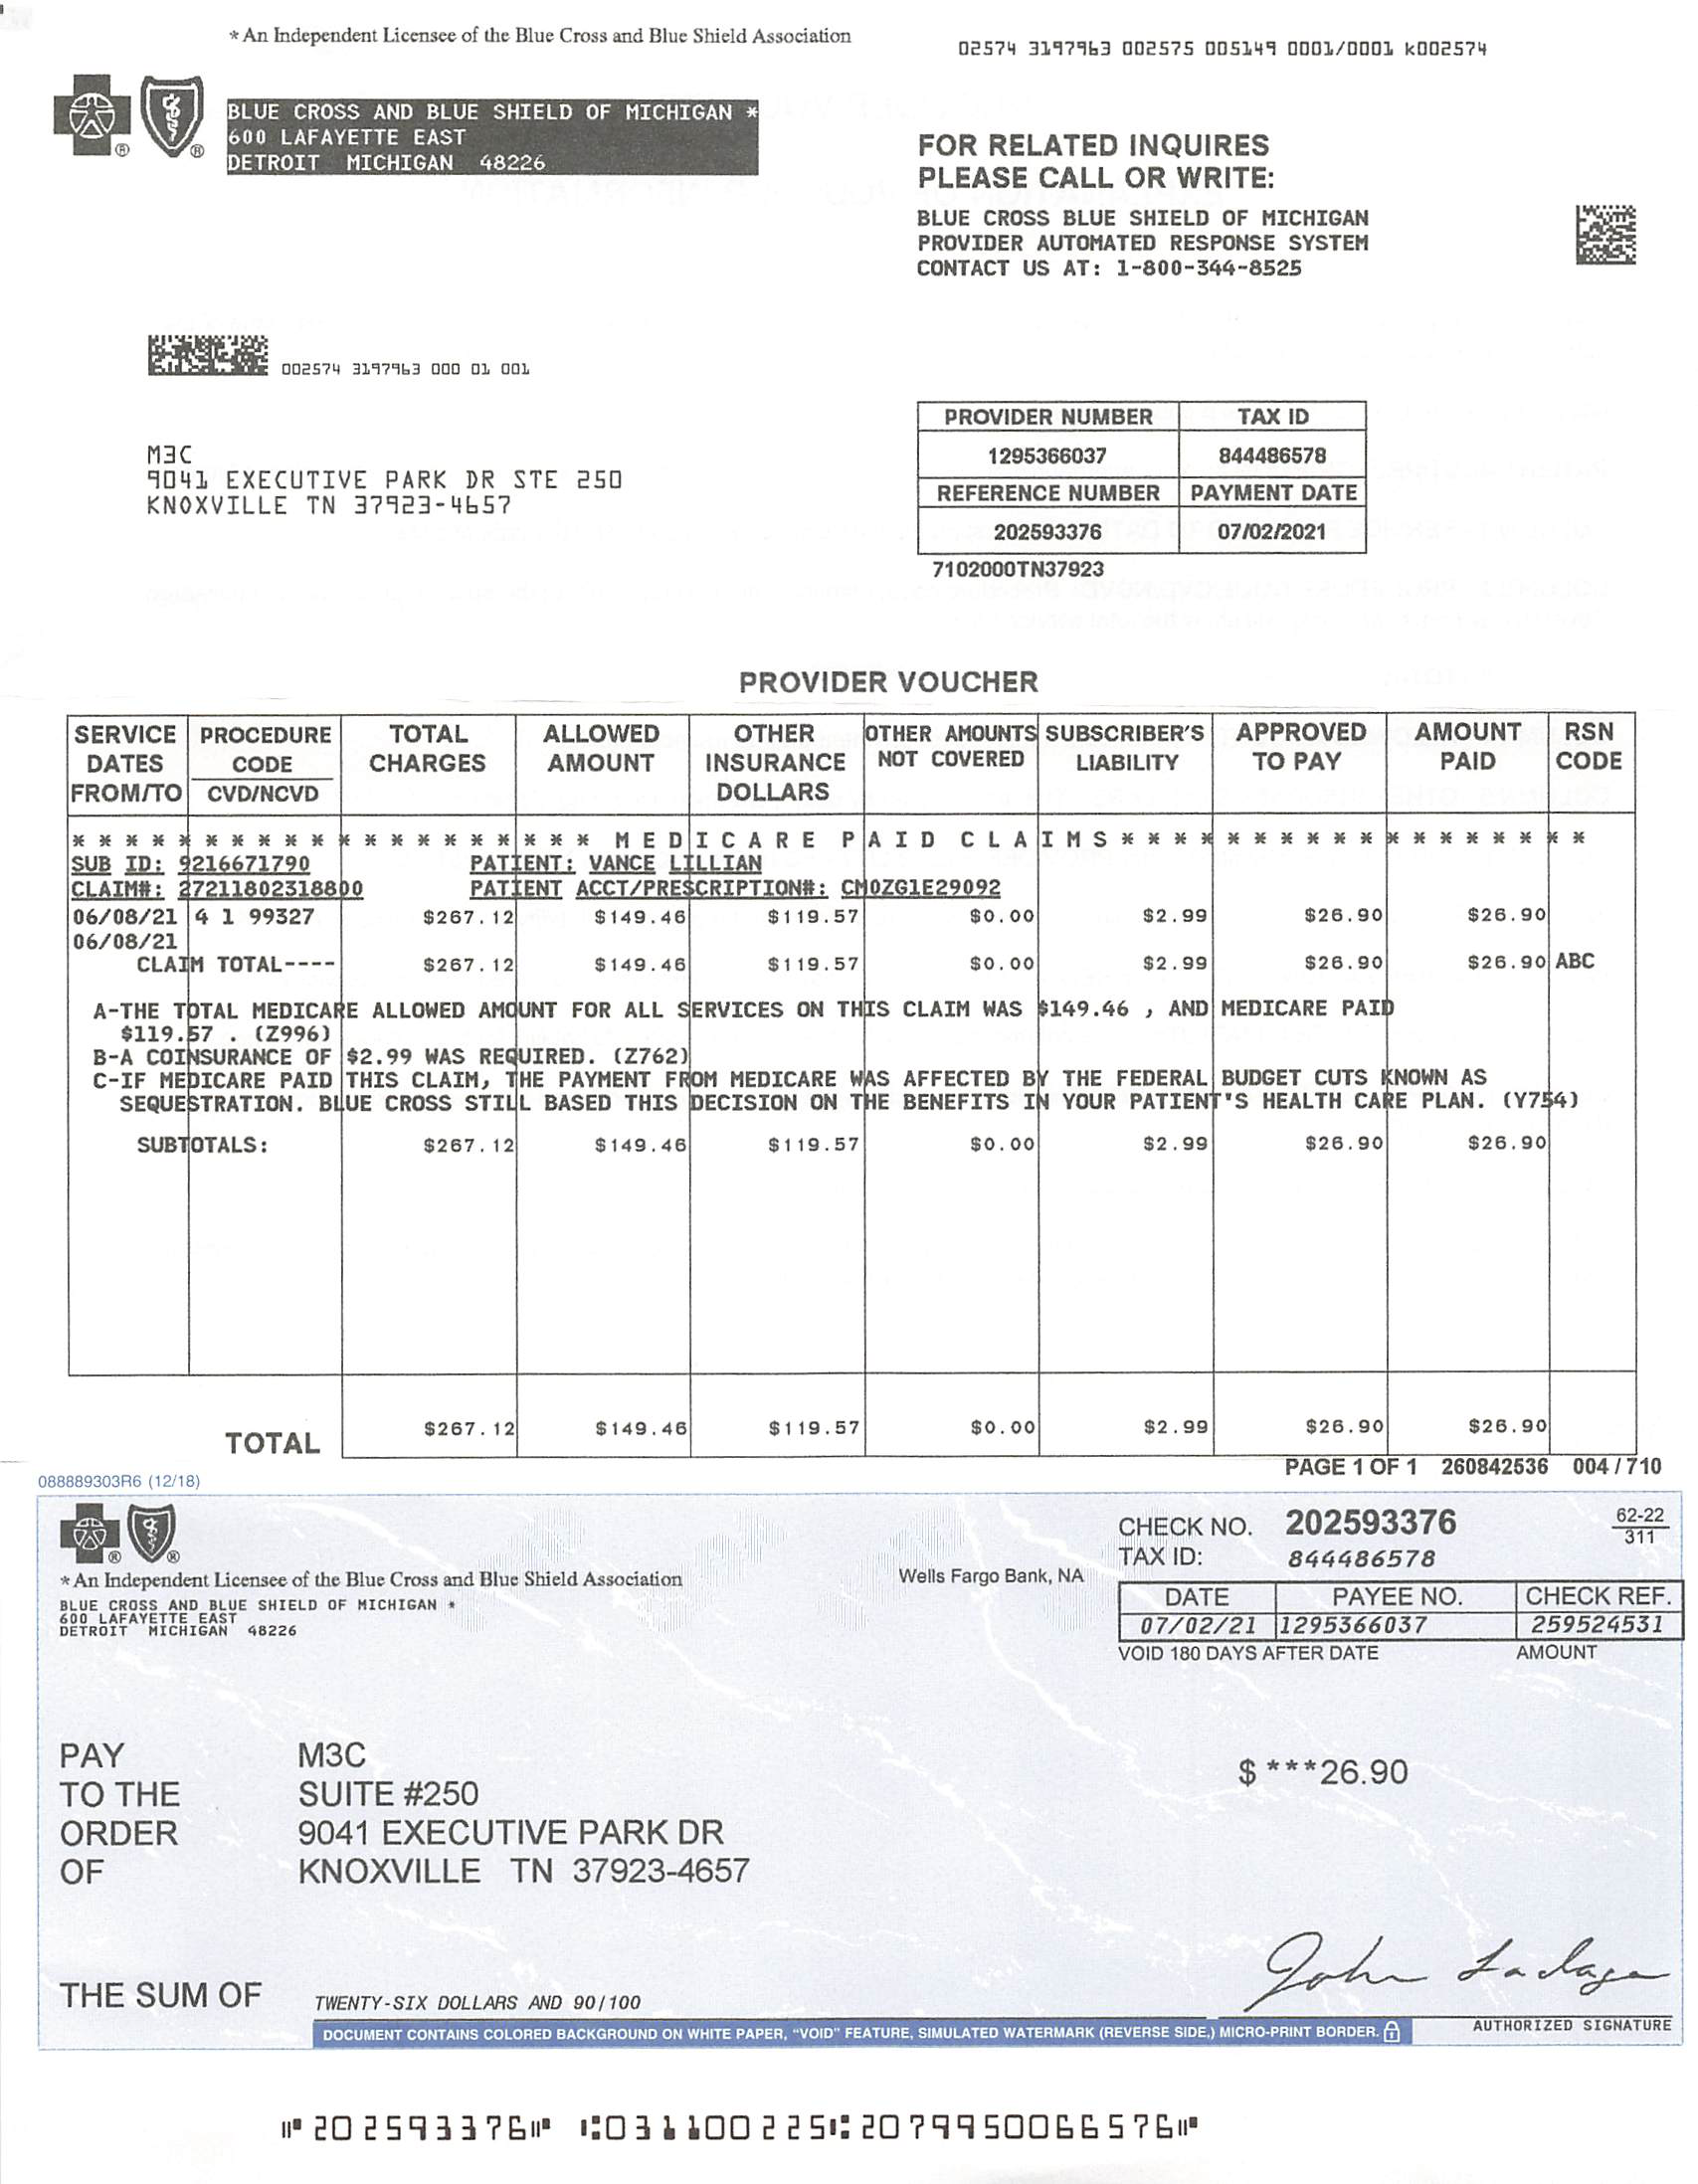table: (62, 709, 1645, 986), (899, 386, 1386, 562)
